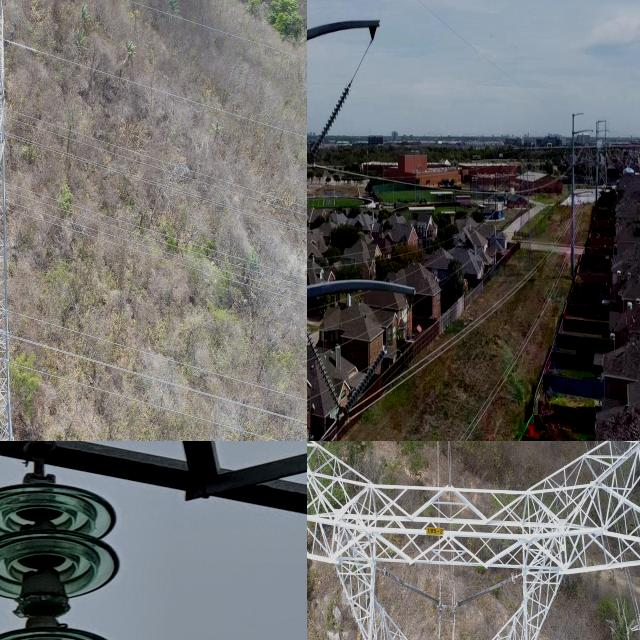杆塔: (307, 441, 640, 640), (0, 441, 307, 529), (0, 0, 46, 441)
正常绝缘子: (0, 450, 168, 640), (332, 337, 397, 431), (307, 73, 358, 170), (307, 318, 349, 423), (381, 565, 441, 610), (456, 569, 517, 611)
绝缘子破损: (9, 584, 74, 622)
